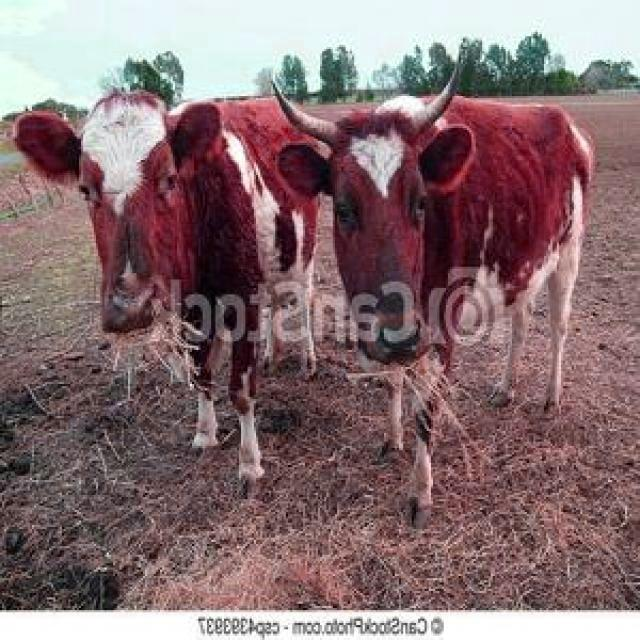cow: (275, 62, 594, 528), (14, 92, 318, 484)
